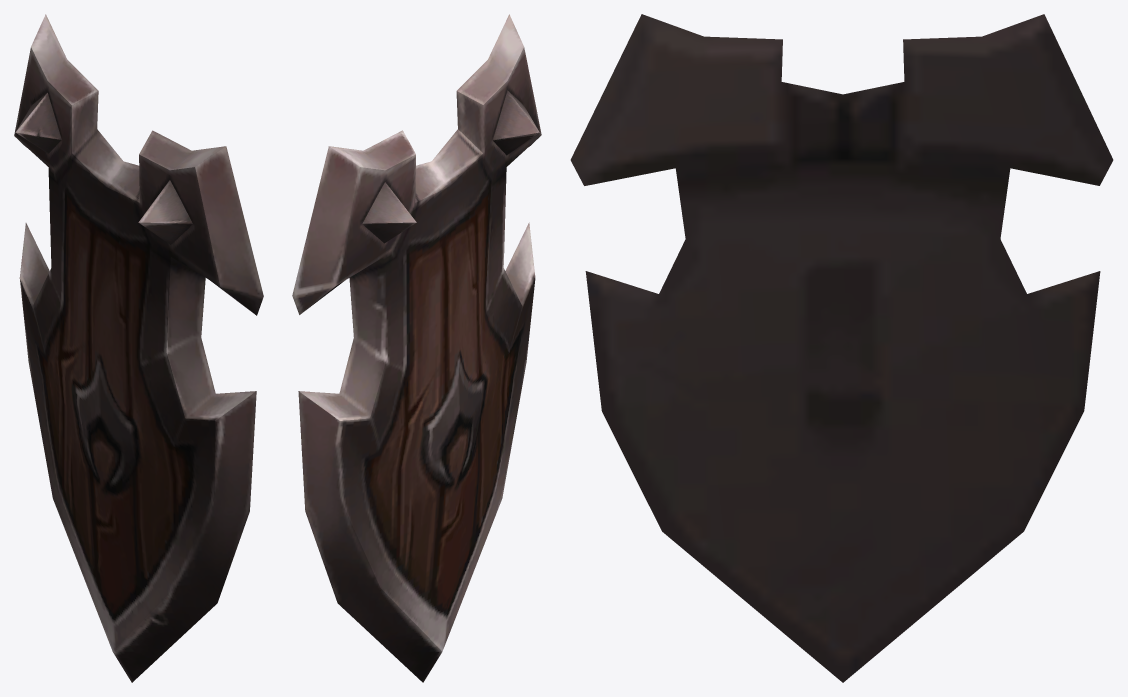
The model's file is shield02_2786603d.glb.
3 renders of one model, left to right at view 1: azimuth 30°, elevation 25°; view 2: azimuth 150°, elevation 25°; view 3: azimuth 270°, elevation 25°, orthographic. The views are drawn at different scales.
Bounding box in the file's own units: 0.1347 × 1.19 × 0.8754.
1 material, 1 textured.
